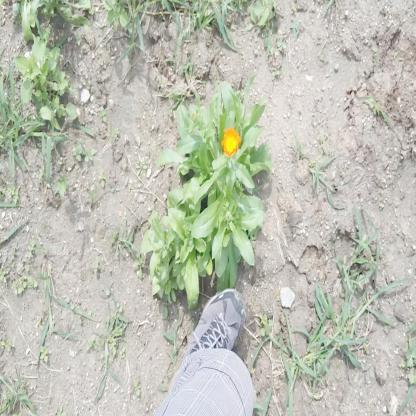marigold: (220, 125, 239, 156)
